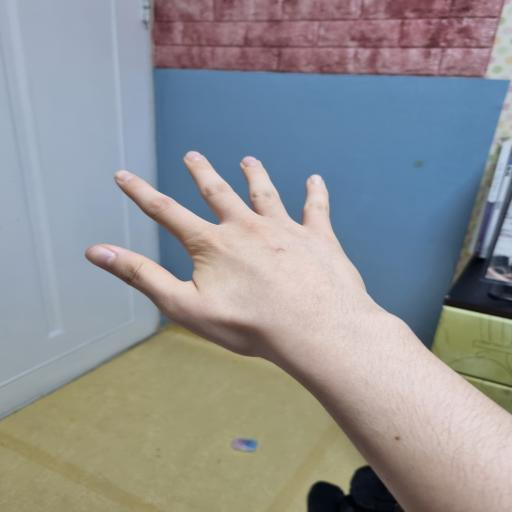Paper: (85, 151, 381, 389)
